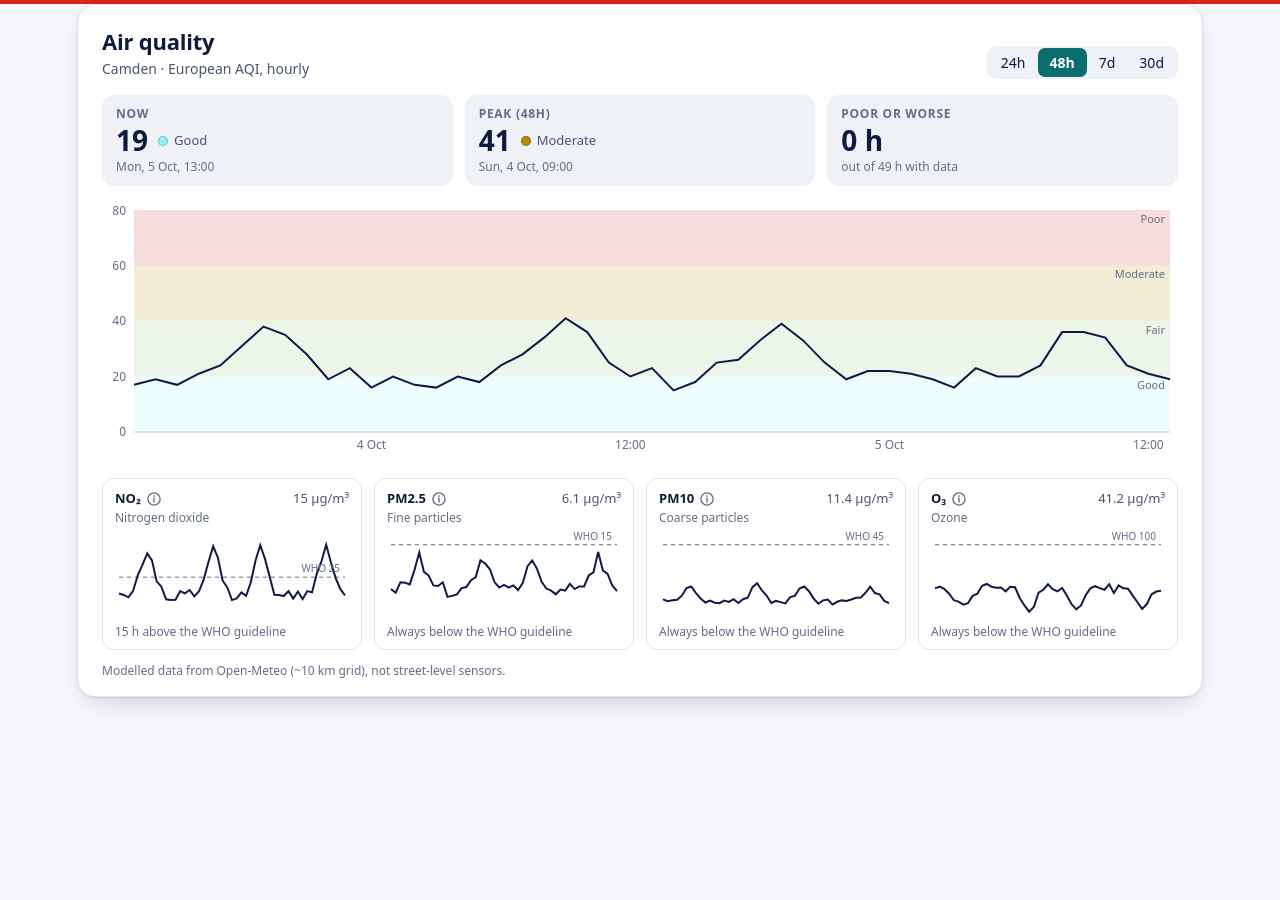
Test: AirQualityWidget › refetches when the range changes
Check: the text "Now" is shown, box [116,105,149,122]
Click the button "7d".
click(1107, 62)  # box [1087,48,1127,77]
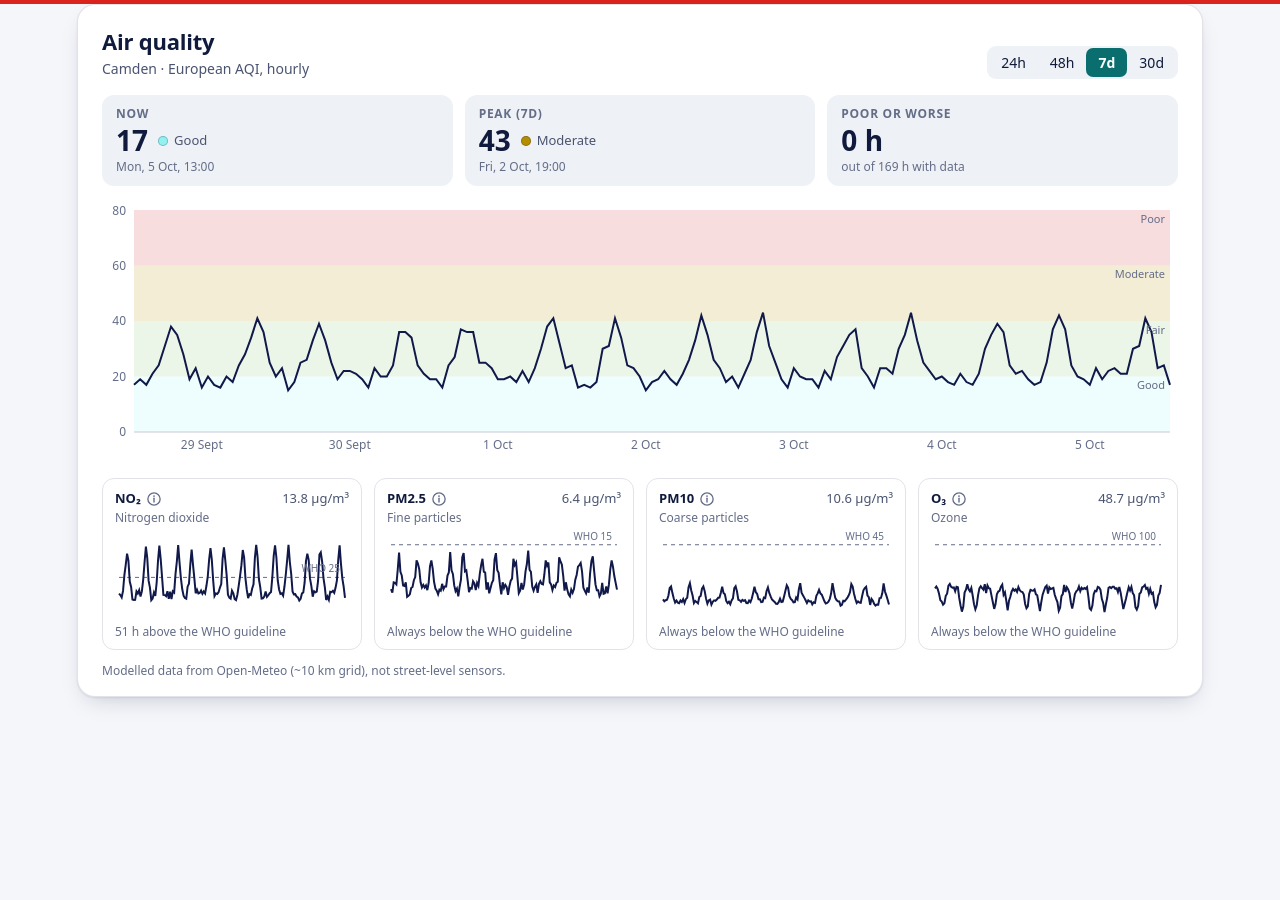
Check: the text "Peak (7d)" is shown, box [479,105,543,122]
